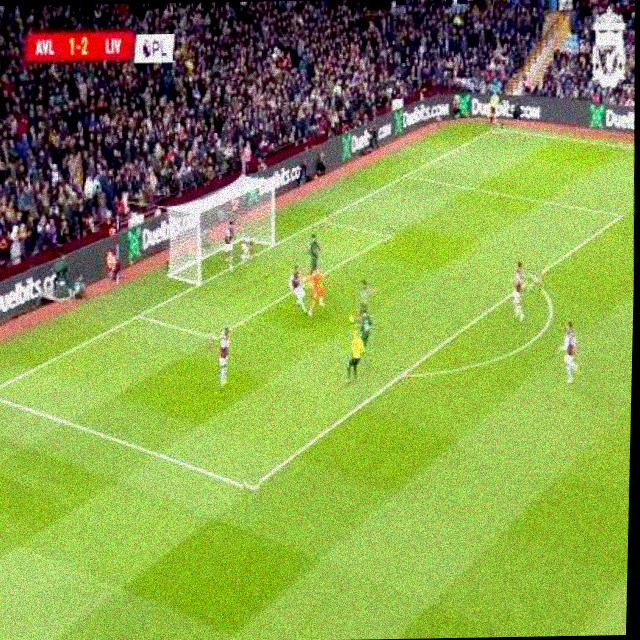bigarea_bottom_inner: (243, 474, 259, 504)
bigarea_top_inner: (613, 200, 632, 233)
bigarea_top_outter: (399, 168, 412, 182)
bottom_arc_area_intersection: (395, 362, 413, 388)
corner: (489, 123, 503, 136)
smallarea_bottom_inner: (208, 328, 221, 348)
smallarea_bottom_outter: (132, 303, 147, 326)
smallarea_top_inner: (382, 225, 396, 247)
smallarea_top_outter: (315, 212, 329, 230)
top_arc_area_intersection: (527, 268, 542, 291)
